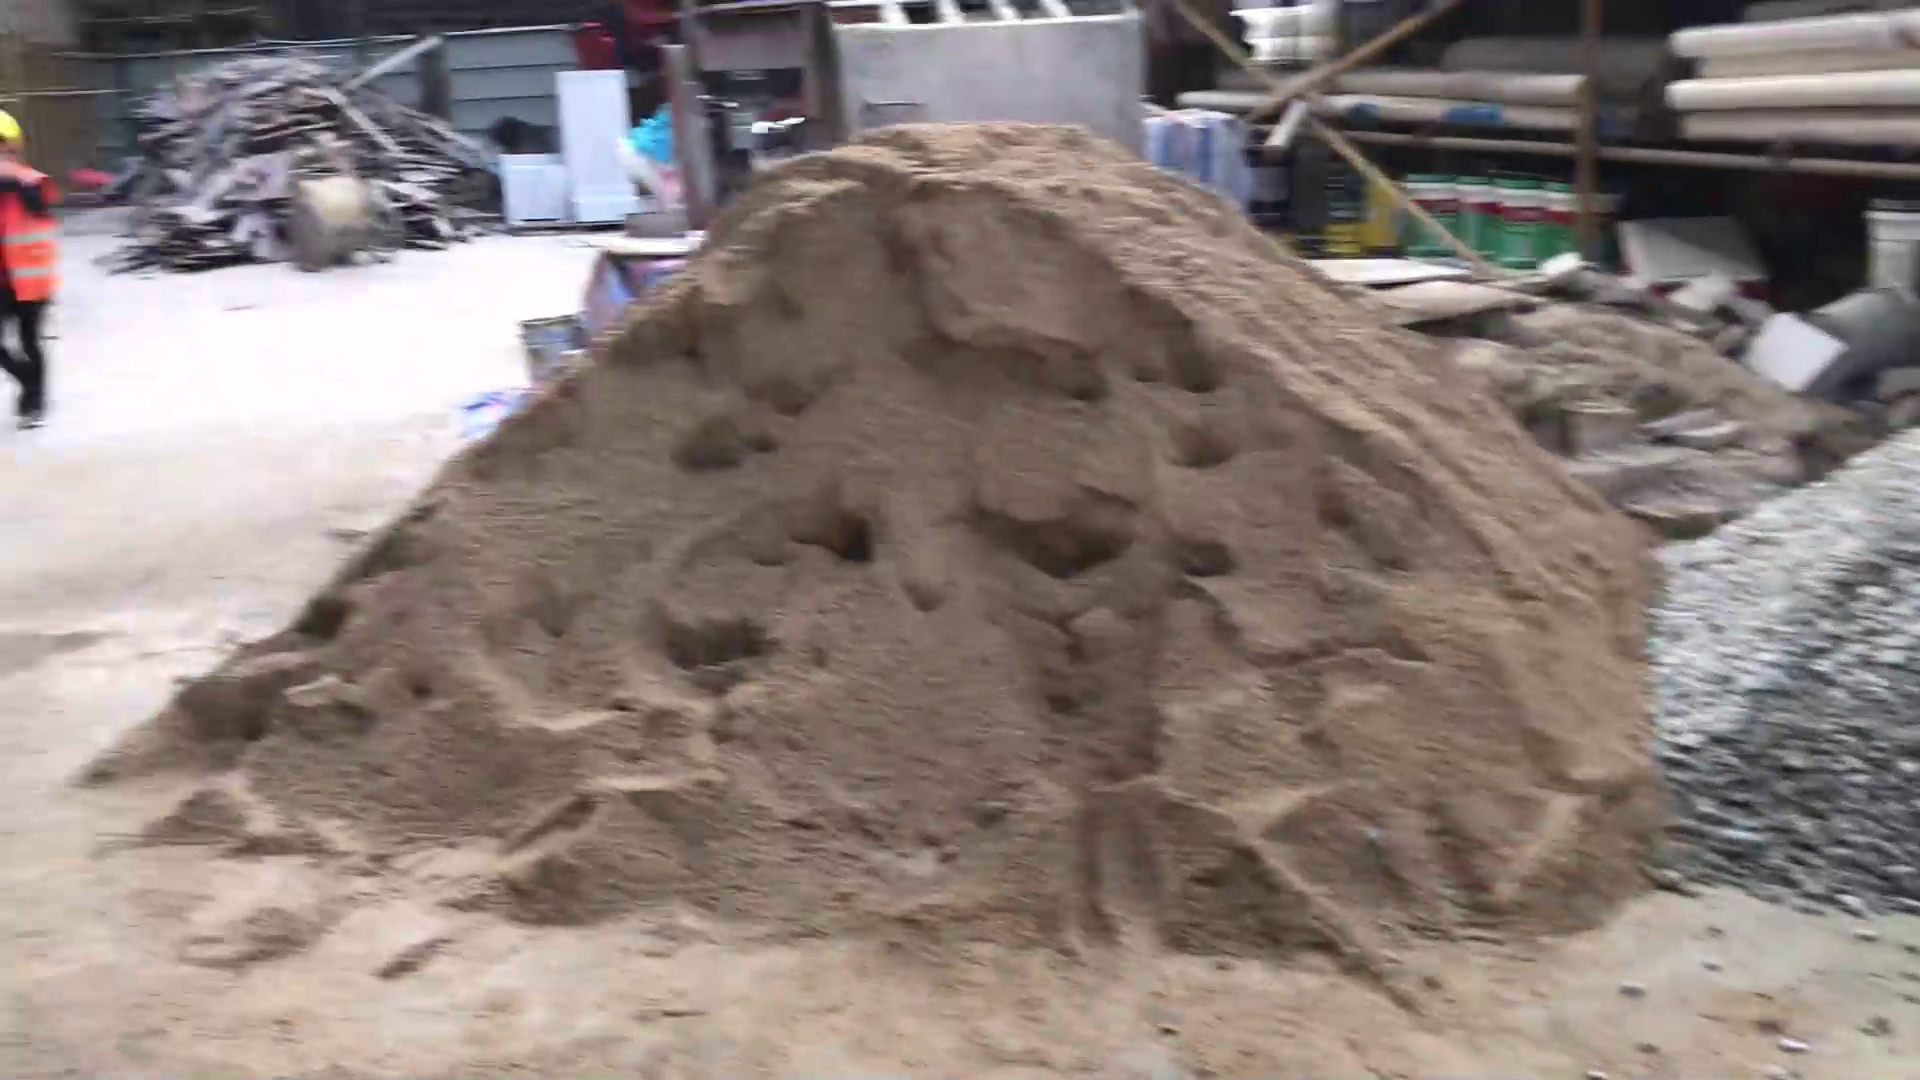brick: (486, 66, 643, 227)
handcart: (276, 101, 402, 286)
person: (3, 104, 74, 434)
